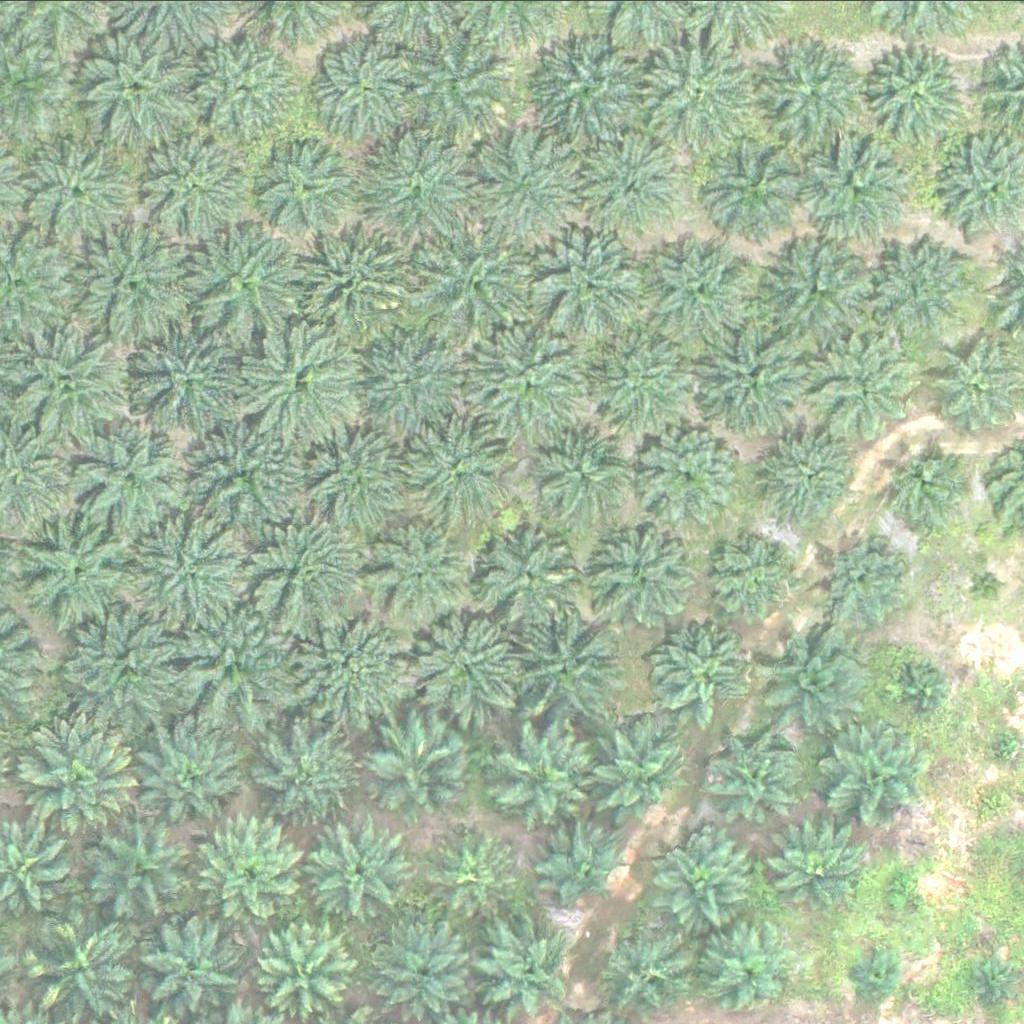Kelapa_Sawit: (8, 711, 134, 836), (125, 715, 251, 840), (66, 598, 192, 723), (177, 598, 303, 723), (84, 21, 210, 146), (8, 322, 134, 447), (137, 314, 263, 439), (73, 221, 199, 346), (286, 601, 412, 726), (251, 510, 377, 635), (690, 317, 816, 442), (583, 320, 709, 445), (461, 320, 587, 445), (241, 318, 367, 443), (282, 210, 408, 335), (405, 220, 531, 345), (534, 219, 660, 344), (754, 226, 880, 351), (472, 124, 598, 249), (362, 123, 488, 248), (525, 26, 651, 151), (636, 30, 762, 155), (129, 503, 254, 628), (403, 606, 528, 731), (21, 132, 135, 245), (144, 119, 258, 232), (365, 329, 479, 442), (26, 518, 139, 631), (72, 418, 185, 531), (514, 609, 627, 722), (763, 618, 876, 731), (647, 233, 760, 346), (190, 27, 303, 140), (309, 32, 422, 145), (407, 25, 520, 138), (868, 231, 981, 344), (199, 813, 313, 925), (192, 225, 305, 337), (697, 127, 810, 239), (763, 38, 876, 150), (813, 330, 926, 442), (587, 724, 688, 824), (656, 829, 757, 929), (380, 918, 481, 1018), (474, 918, 575, 1018), (654, 623, 755, 723), (602, 526, 703, 626), (481, 528, 582, 628), (369, 523, 470, 623), (411, 415, 512, 515), (640, 422, 741, 522), (765, 426, 866, 526), (259, 137, 360, 237), (919, 340, 1020, 440), (874, 437, 975, 537), (828, 724, 929, 824), (137, 911, 237, 1011), (91, 821, 191, 921), (263, 724, 363, 824), (371, 716, 471, 816), (497, 728, 597, 828), (313, 817, 413, 917), (258, 920, 358, 1020), (304, 434, 404, 534), (592, 127, 692, 227), (865, 45, 965, 145), (809, 133, 909, 233), (768, 821, 868, 921), (191, 425, 291, 524), (541, 821, 629, 909), (433, 828, 521, 916), (711, 734, 799, 822), (545, 431, 633, 519), (708, 924, 797, 1011), (819, 535, 908, 622), (712, 536, 800, 623), (896, 666, 947, 716), (970, 960, 1020, 1010), (847, 947, 897, 997), (882, 869, 920, 907), (970, 564, 1008, 602)
